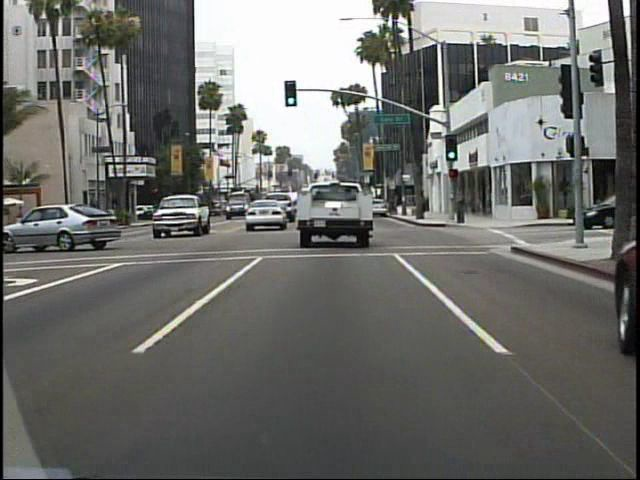person: (451, 181, 468, 225)
